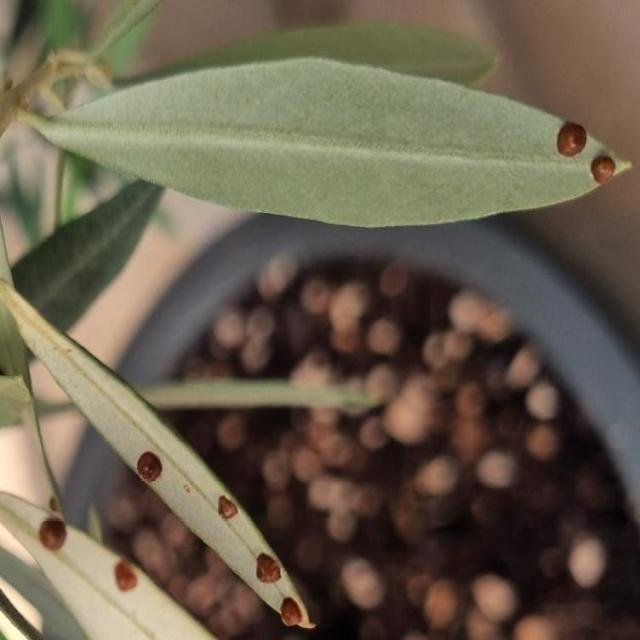BlackScale: (556, 121, 586, 158), (38, 516, 66, 552), (591, 148, 617, 185), (136, 451, 161, 486), (255, 552, 281, 582), (279, 594, 300, 626), (218, 496, 238, 520)
